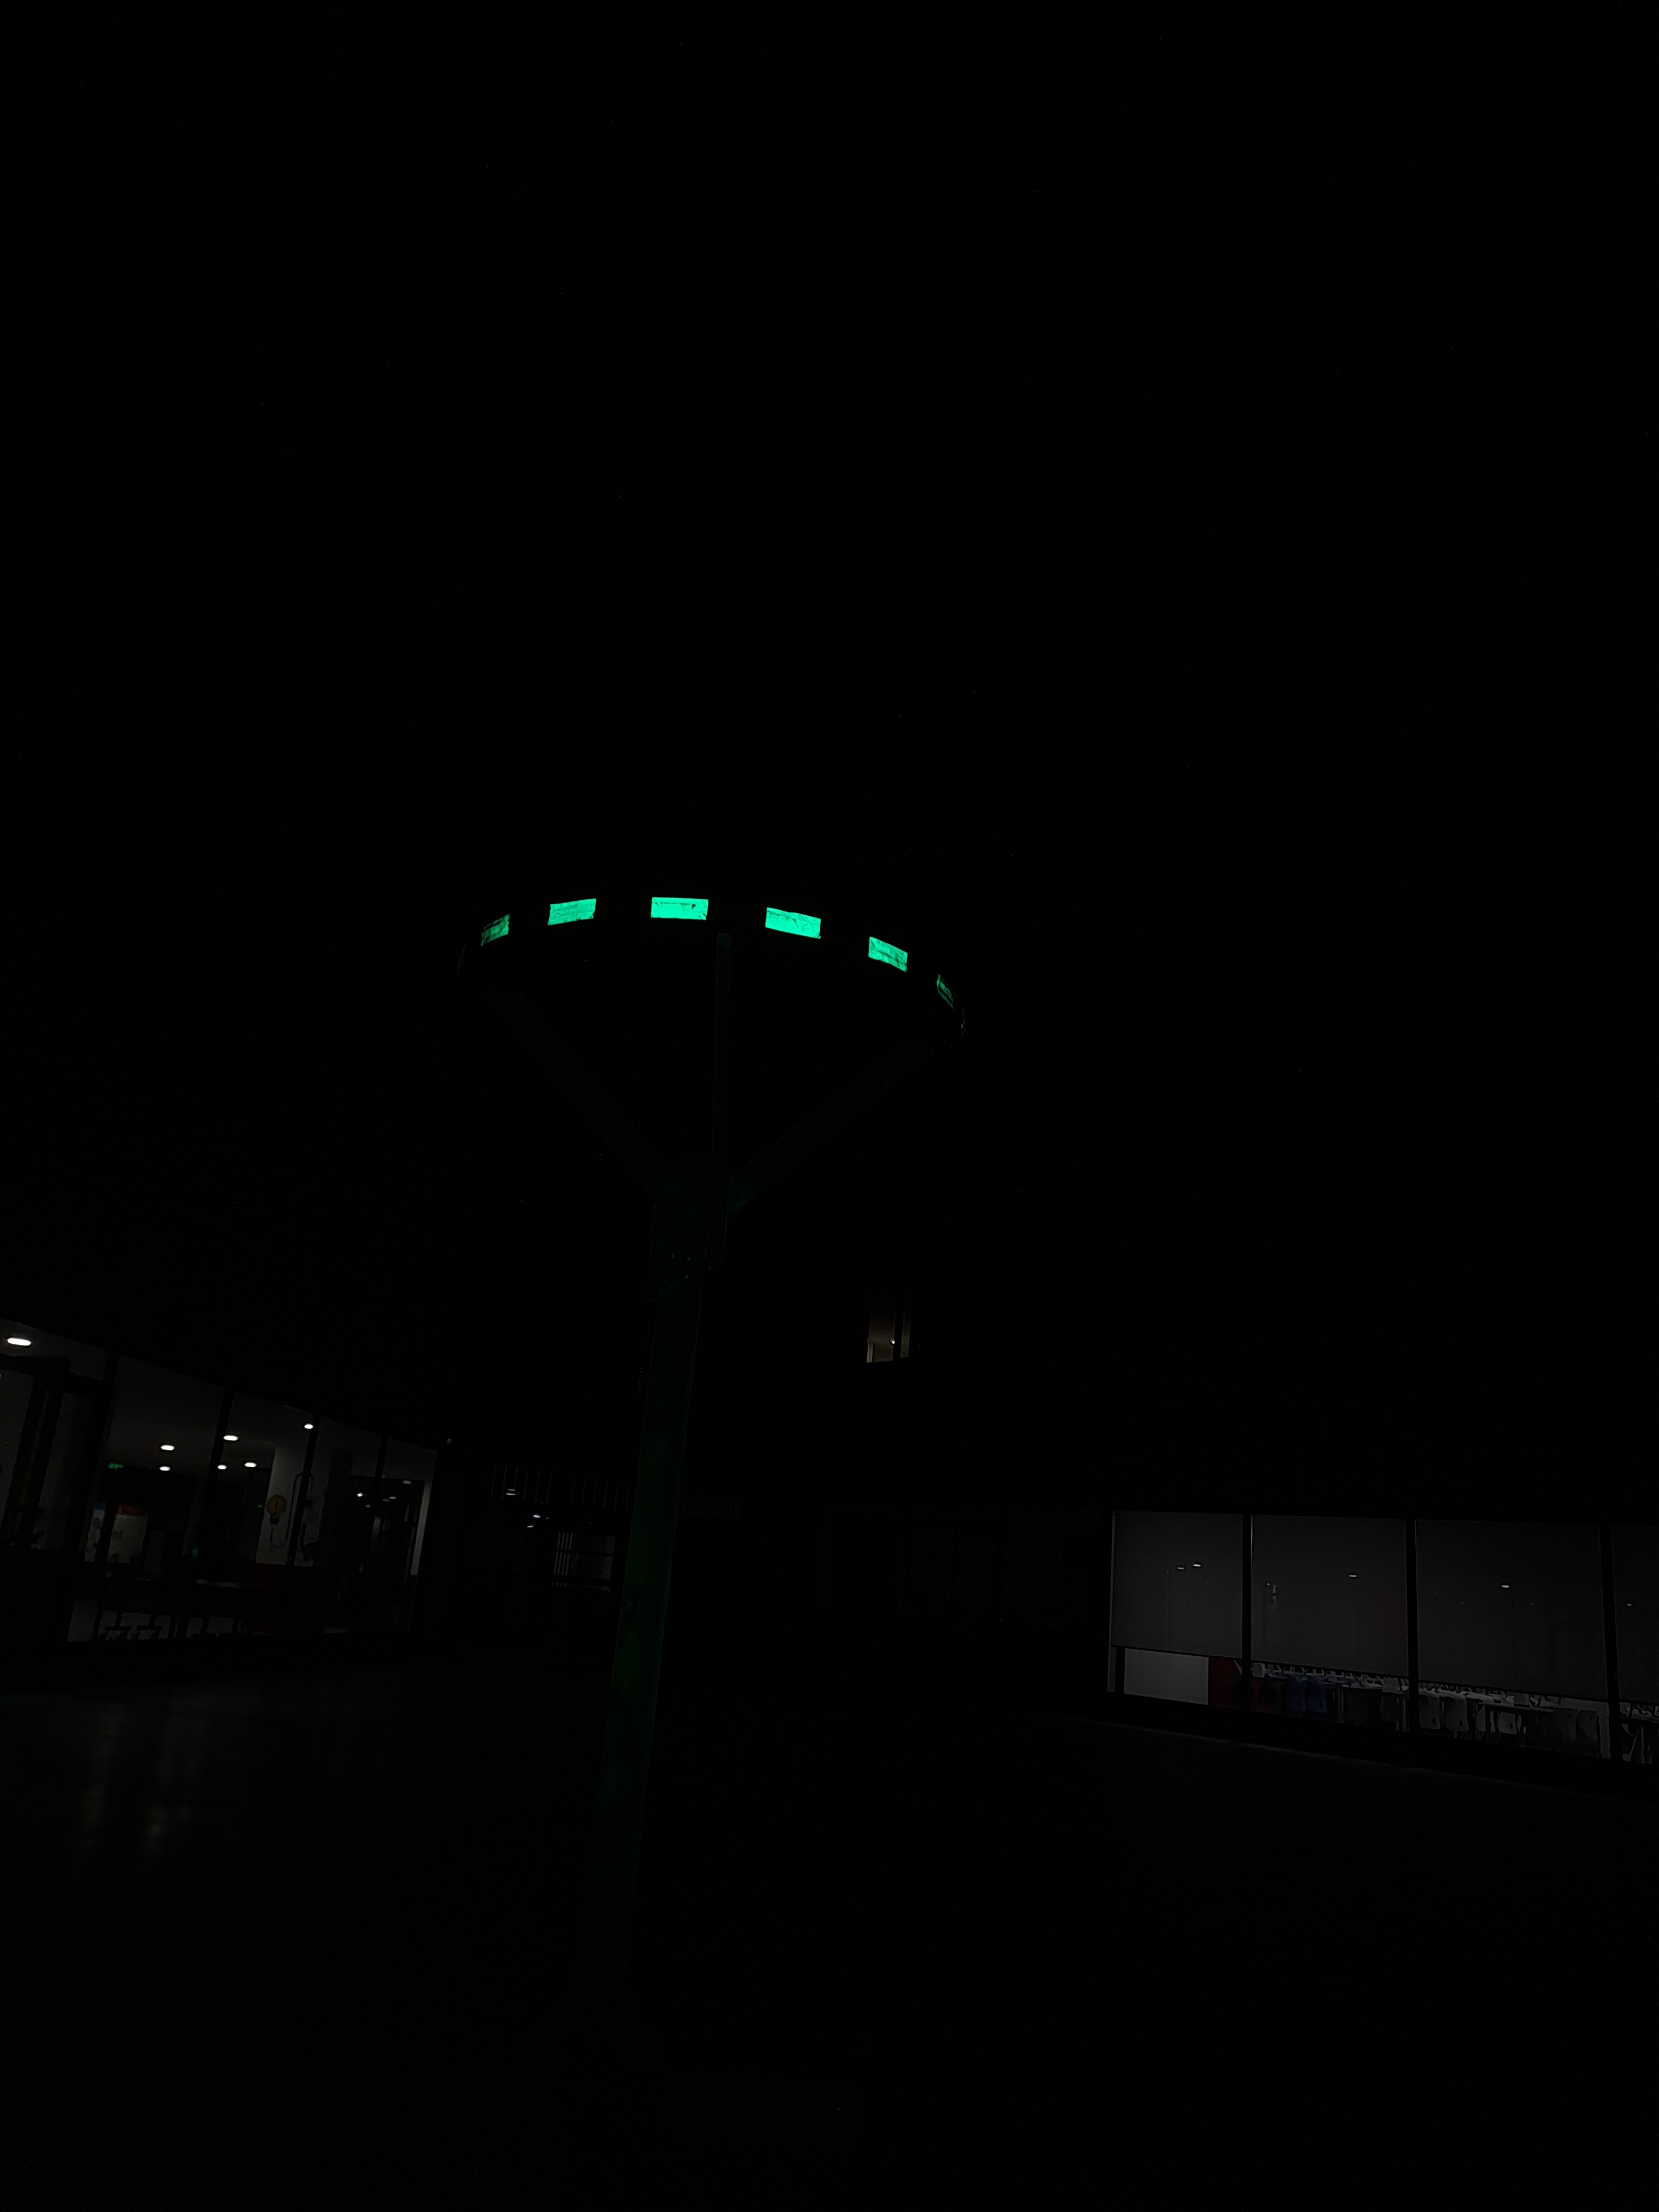hoop: (471, 888, 911, 988)
